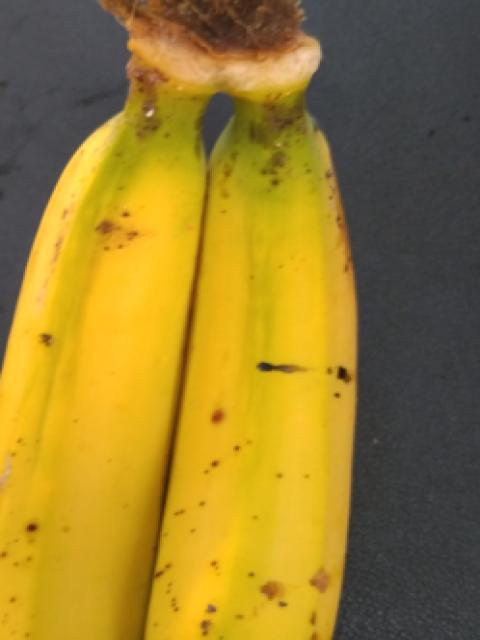freshripe: (0, 115, 207, 639)
ripe: (133, 131, 425, 639)
